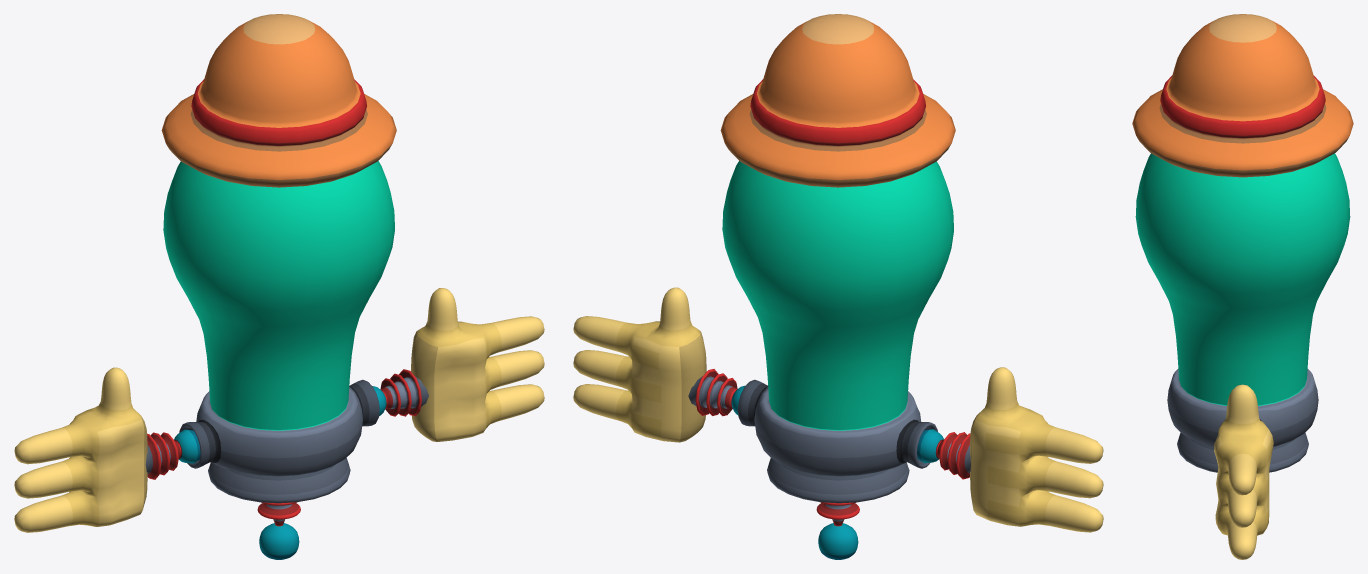
The model's file is Alien_Lampada_TEXTURIZADO.fbx.
The picture shows the model from 3 angles, left to right: view 1: azimuth 30°, elevation 25°; view 2: azimuth 150°, elevation 25°; view 3: azimuth 270°, elevation 25°; orthographic projection. The views are drawn at different scales.
Parts seen in each view (by area): view 1: Nave lâmpada, right hand.001, right hand; view 2: Nave lâmpada, right hand.001, right hand; view 3: Nave lâmpada, right hand.
Boxes of the visible parts, x1,y1,x2,y2 form: Nave lâmpada: (161, 14, 396, 559); right hand.001: (14, 367, 200, 532); right hand: (372, 288, 544, 441); Nave lâmpada: (720, 14, 955, 559); right hand.001: (917, 367, 1103, 532); right hand: (573, 287, 745, 442); Nave lâmpada: (1132, 14, 1353, 472); right hand: (1214, 384, 1273, 559).
Bounding box in the file's own units: 211 × 205 × 81.48.
4 materials, 4 textured.
